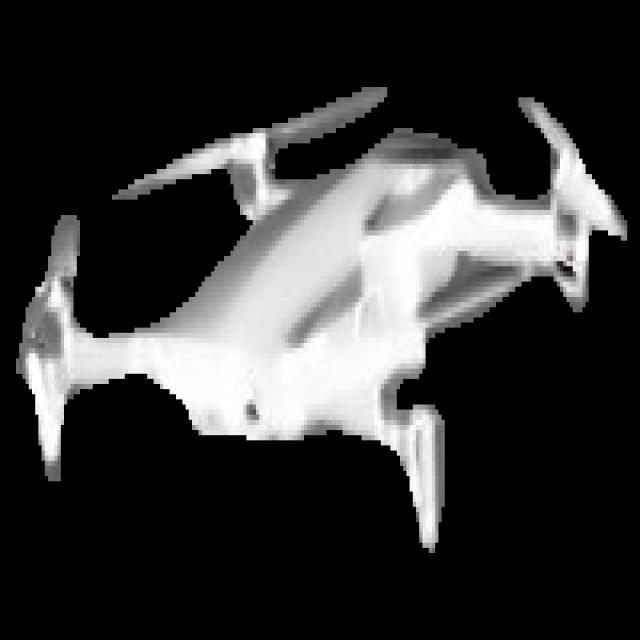drone: (19, 78, 629, 555)
